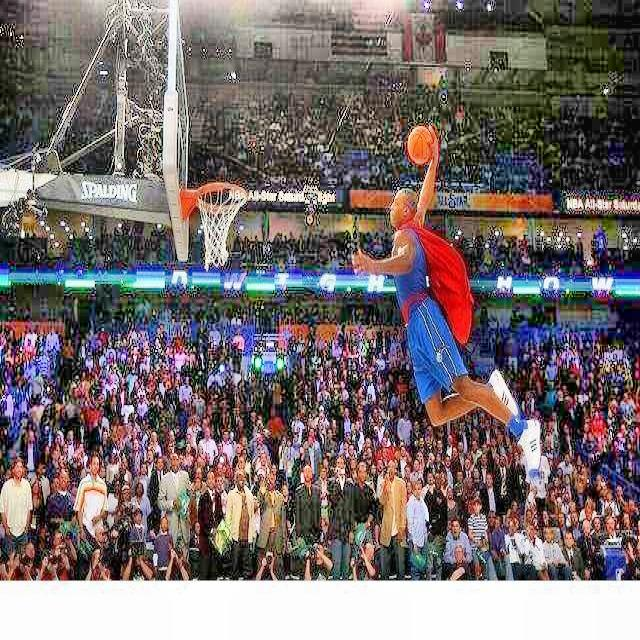board: (408, 126, 432, 165)
rim: (198, 182, 248, 268)
